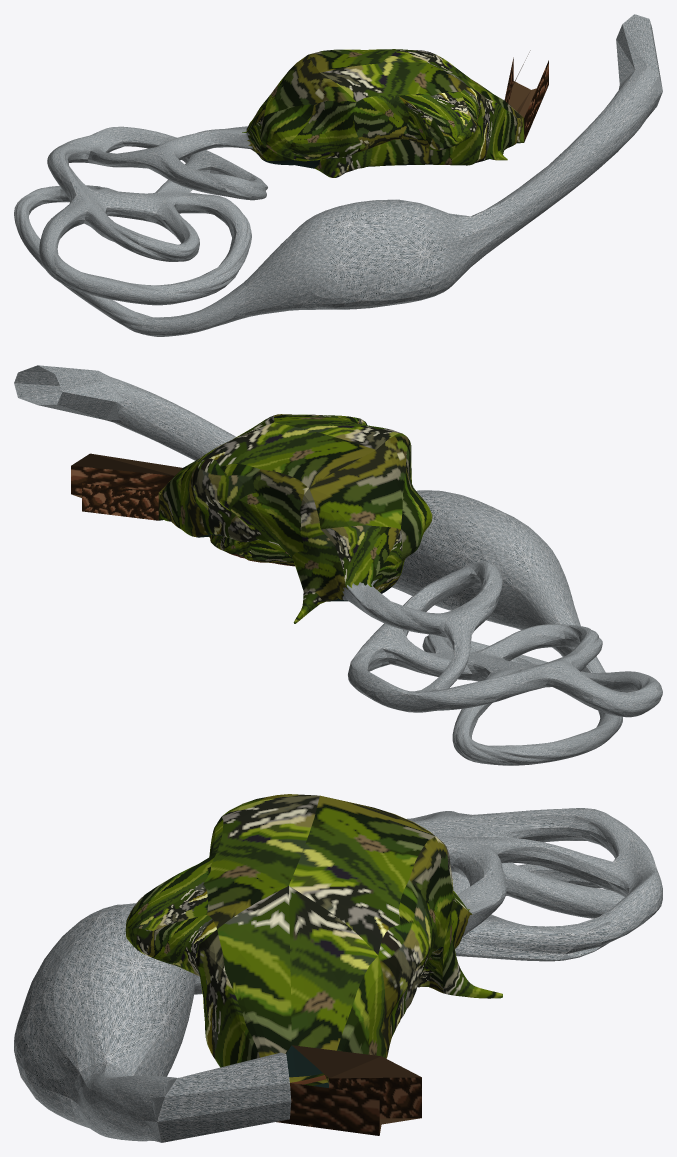
Rendered from Laberinto.fbx.
3 renders of one model, top to bottom at view 1: azimuth 30°, elevation 25°; view 2: azimuth 150°, elevation 25°; view 3: azimuth 270°, elevation 25°, orthographic. The views are drawn at different scales.
Visible parts, largest first — view 1: Laberinto; view 2: Laberinto; view 3: Laberinto.
Boxes of the visible parts, x1=… form: Laberinto: x1=14, y1=14, x2=662, y2=336; Laberinto: x1=14, y1=365, x2=662, y2=765; Laberinto: x1=14, y1=794, x2=662, y2=1142.
Size of the model in its own units: 59935 by 35202 by 20155.
Materials: 5 (3 with a texture image).
